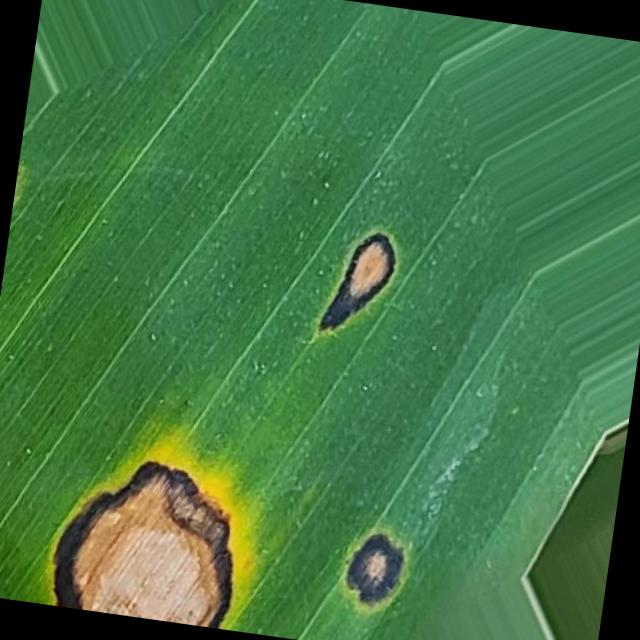Banana_Black_Sigatoka: (0, 376, 517, 640), (255, 172, 537, 382)
